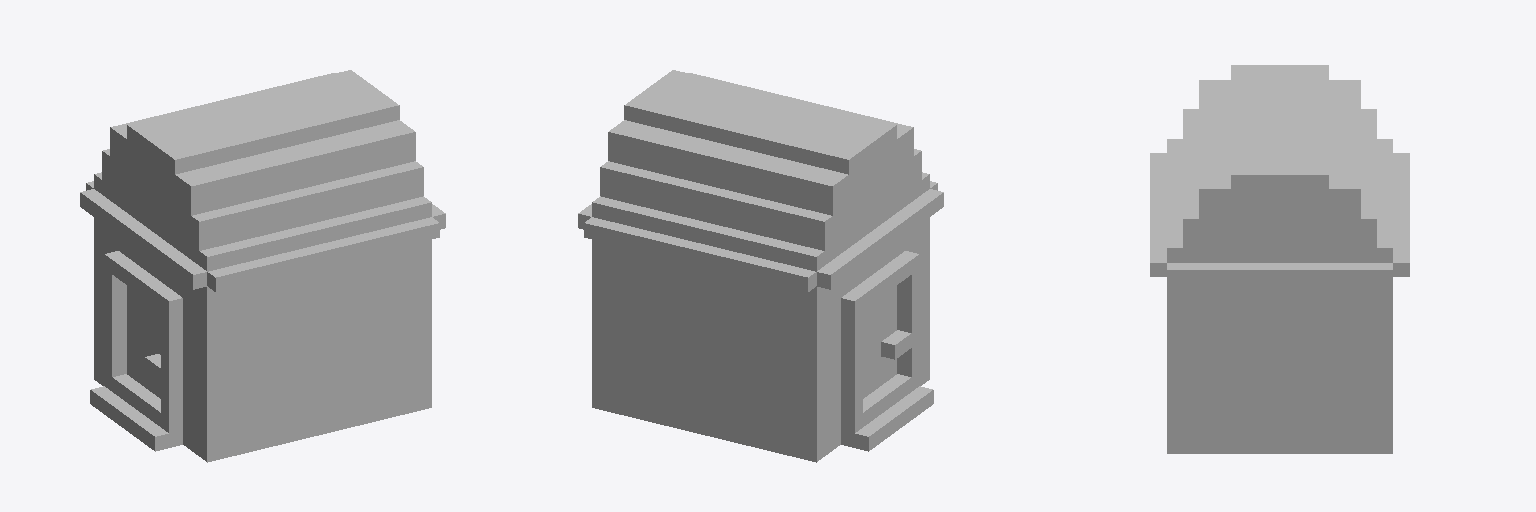
File: house.obj
The picture shows the model from 3 angles: view 1: azimuth 30°, elevation 25°; view 2: azimuth 150°, elevation 25°; view 3: azimuth 270°, elevation 25°; orthographic projection.
Size of the model in its own units: 19 by 19 by 16.